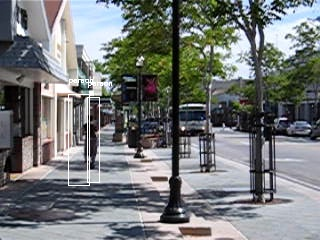person: (80, 114, 99, 171), (79, 114, 98, 171), (81, 114, 100, 171), (80, 113, 99, 170), (80, 115, 99, 172)
target_negative: (70, 189, 308, 228), (226, 55, 311, 144), (17, 112, 73, 223), (247, 167, 297, 220), (266, 121, 294, 196), (75, 29, 92, 69)
